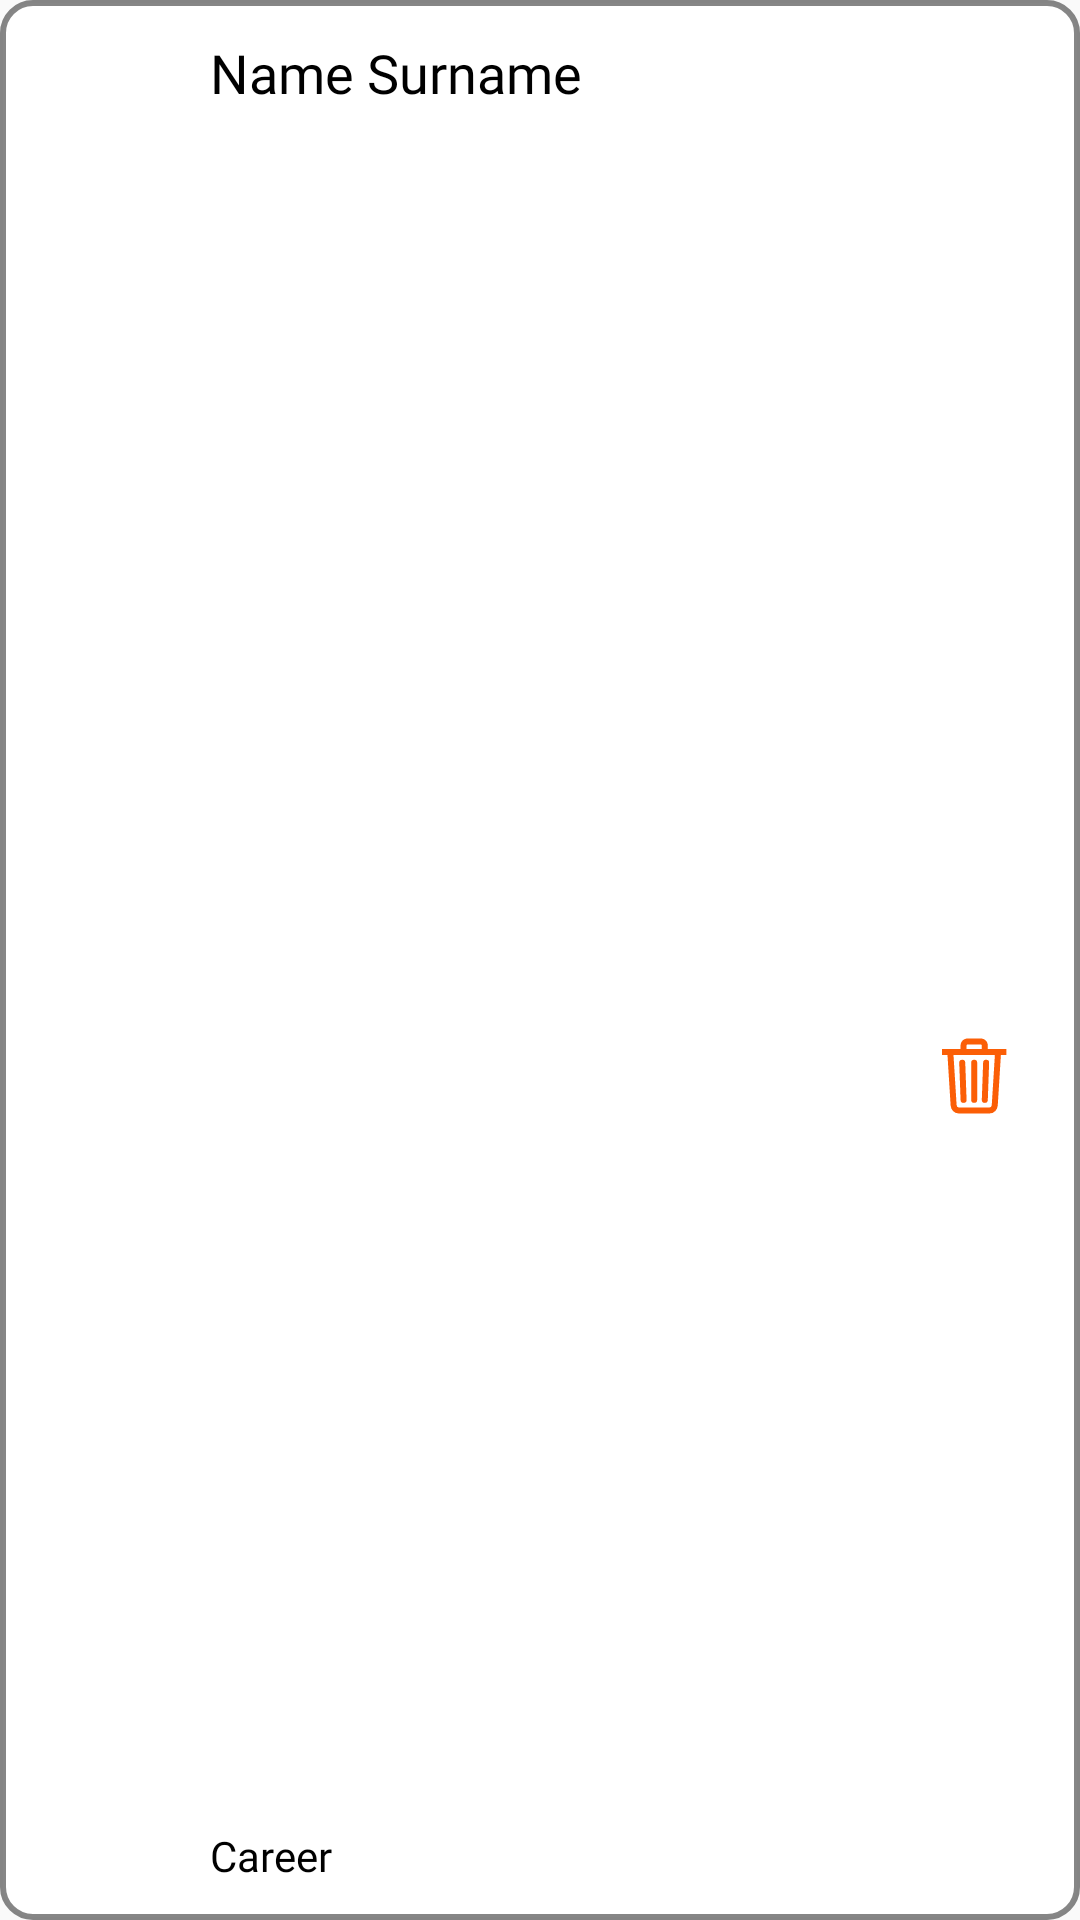

Named icons in this screenshot (1080px×1920px) and their centers, (x,y):
Delete: (974,1076)
